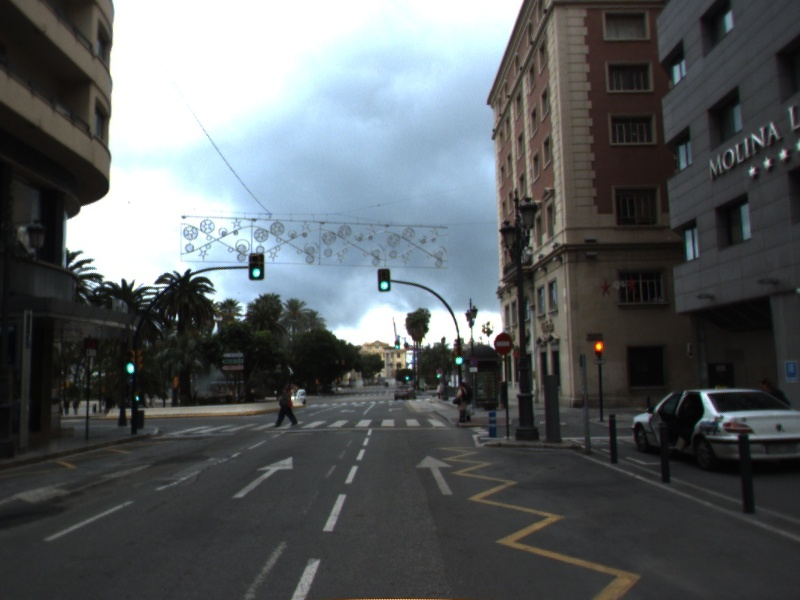STRAIGHT: (230, 454, 295, 500), (414, 454, 456, 497)
STRAIGHT_LEFT: (1, 462, 154, 506)
